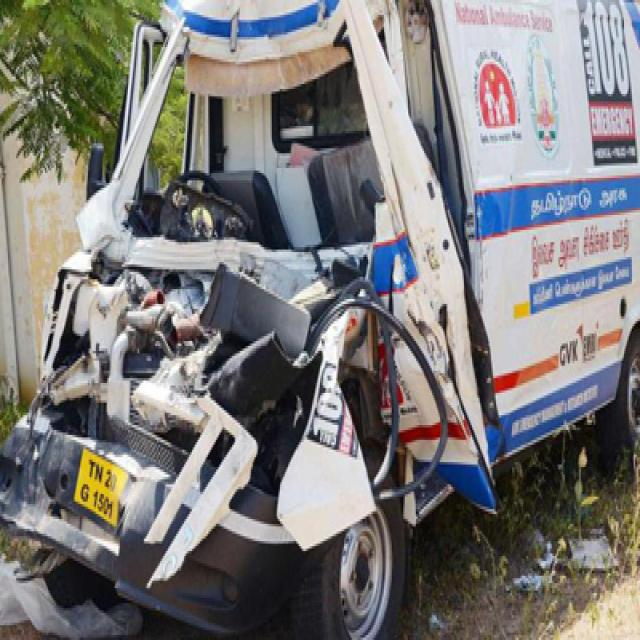accident: (0, 0, 640, 637)
